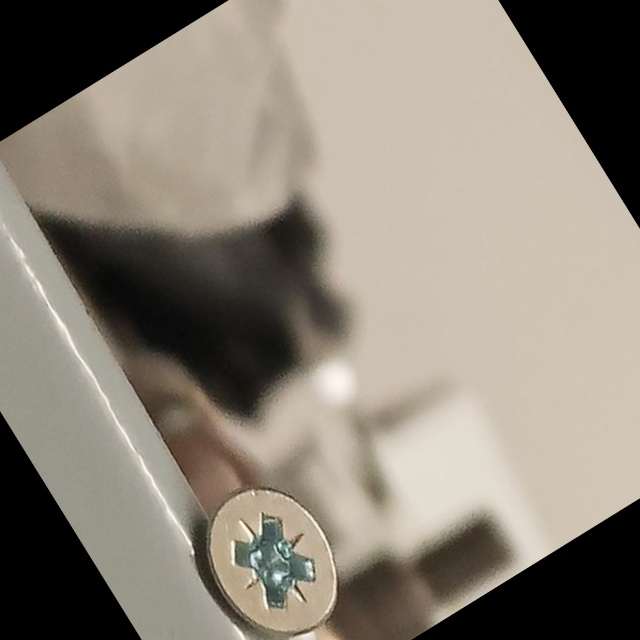pozidriv: (178, 463, 365, 640)
